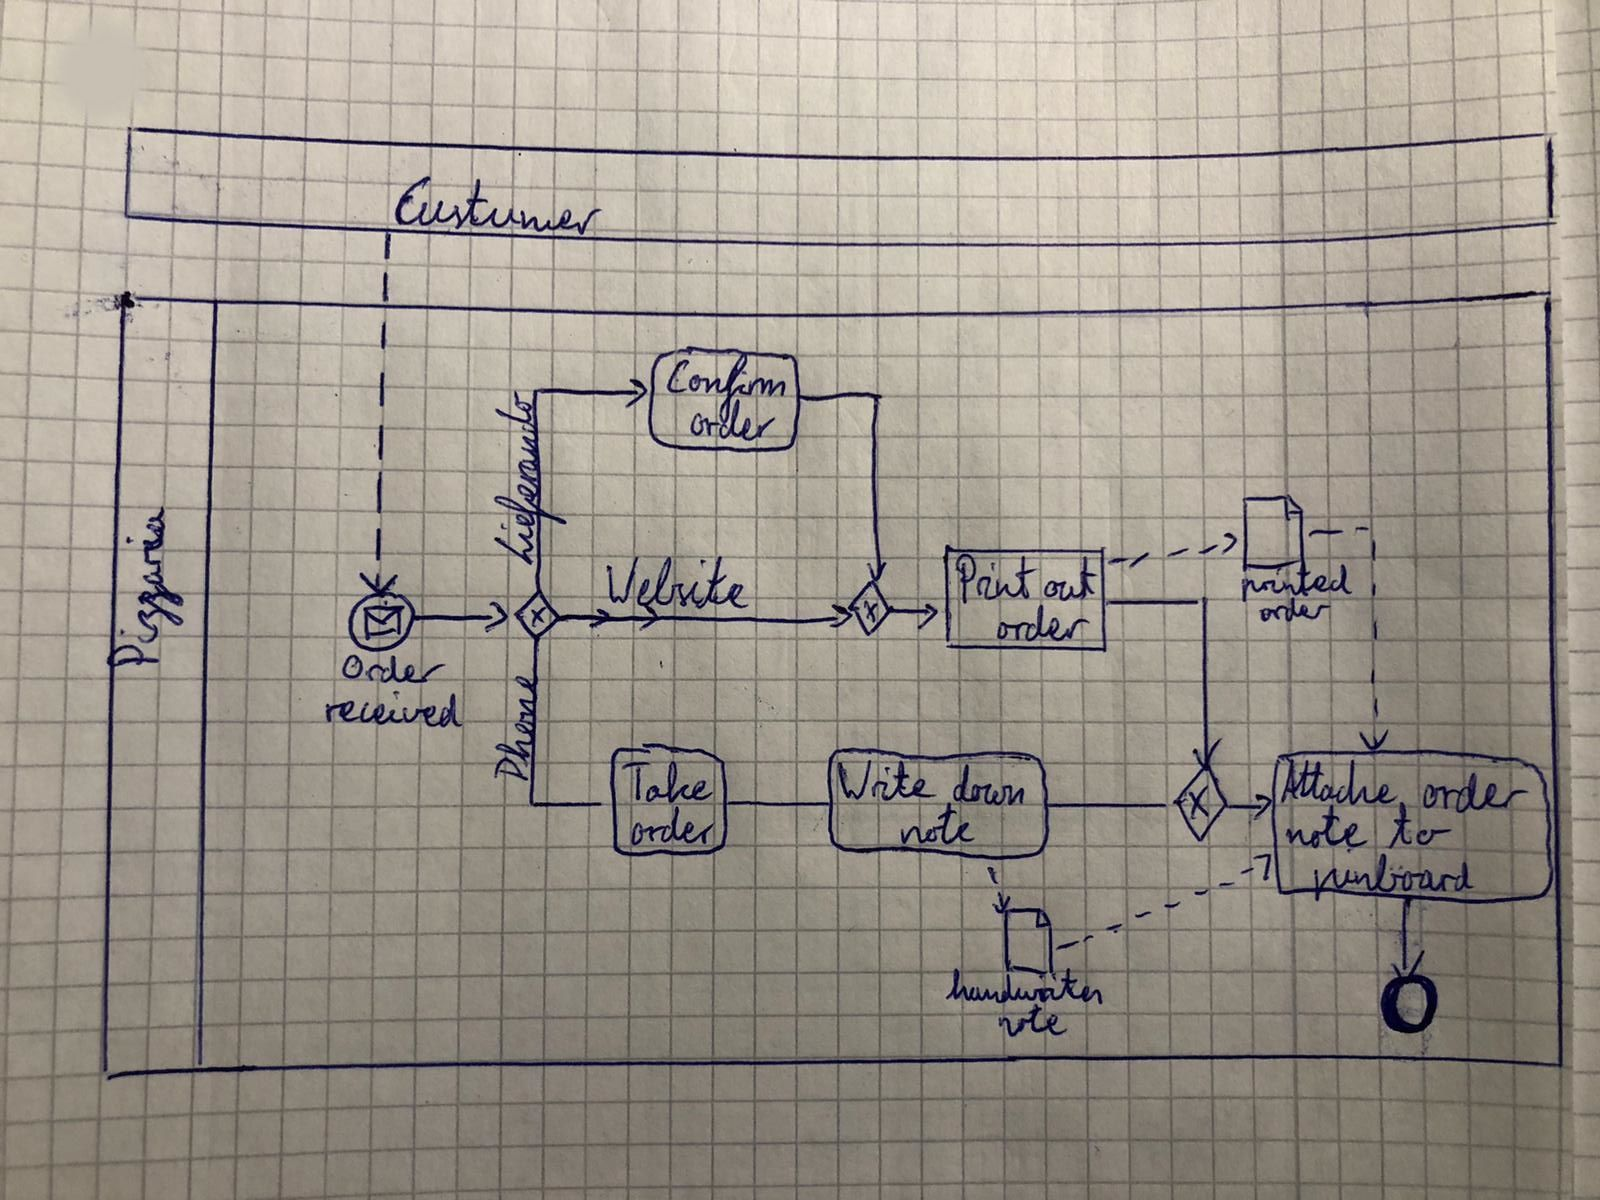Attache: (1277, 758, 1400, 807)
Confirm: (664, 353, 790, 408)
Custumer: (391, 174, 602, 234)
Lieferando: (491, 387, 548, 568)
Order: (339, 652, 443, 686)
Phone: (489, 666, 539, 783)
Pizzaria: (102, 495, 190, 672)
Print: (950, 551, 1038, 601)
Take: (621, 758, 714, 804)
Website: (602, 555, 753, 608)
Write: (835, 756, 940, 805)
down: (949, 764, 1029, 808)
handwriten: (946, 967, 1105, 1008)
note: (1283, 804, 1371, 850), (897, 800, 975, 846), (995, 1002, 1067, 1041)
order: (1419, 769, 1532, 814), (991, 608, 1094, 645), (627, 807, 717, 850), (688, 401, 779, 440), (1259, 597, 1335, 623)
out: (1042, 555, 1101, 604)
pinboard: (1309, 851, 1478, 900)
printed: (1236, 566, 1353, 603)
received: (323, 695, 466, 734)
to: (1388, 802, 1451, 850)
